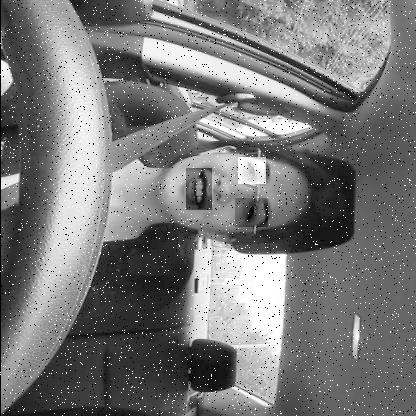seatbelt: (0, 117, 344, 259)
